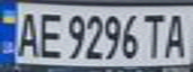2: (84, 10, 106, 61)
6: (118, 11, 145, 61)
9: (63, 10, 87, 61), (103, 11, 124, 61)
A: (160, 9, 193, 60), (12, 8, 42, 59)
E: (33, 8, 63, 60)
T: (139, 10, 169, 60)
